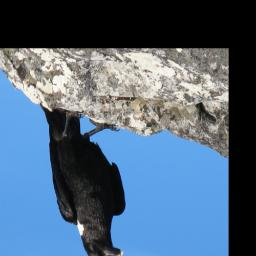Crow: (39, 102, 128, 256)
